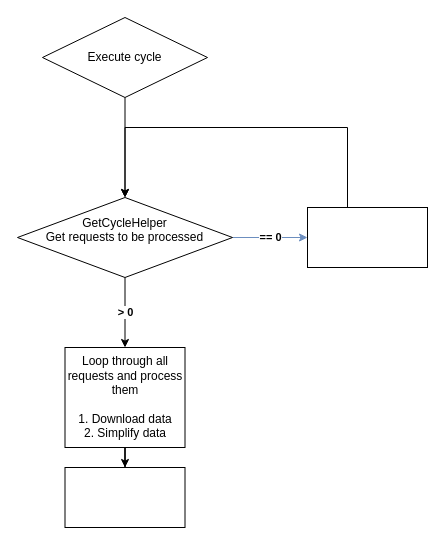
Some shapes in this 445 by 545 pixel diagram are drawn without their labels. Here are the shapes that lost their labels. From the top down, the centre of each, then its label:
the point at 367,237: Wait 10 seconds
the point at 124,497: Combine stats per user and upload stats
